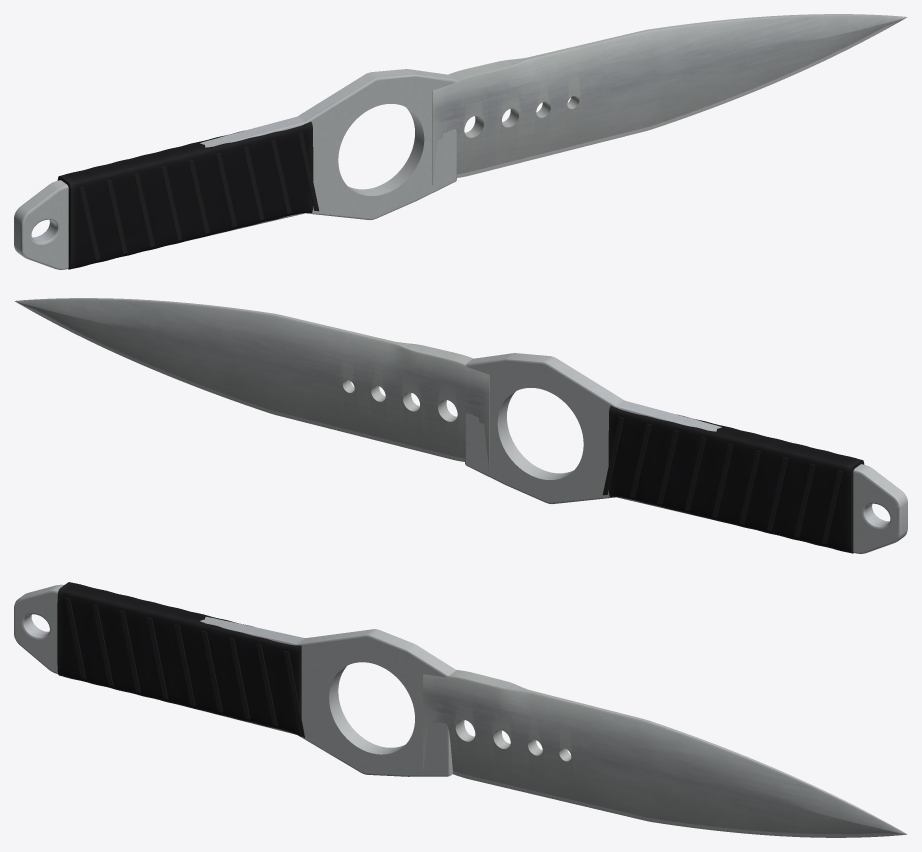
File: skeleton.glb
3 views of the same model, one above another, from view 1: azimuth 30°, elevation 25°; view 2: azimuth 150°, elevation 25°; view 3: azimuth 330°, elevation 25° (orthographic).
Parts seen in each view (by area): view 1: body; view 2: body; view 3: body.
Part boxes in pixels (x1,y1,x2,y2): body: [14, 14, 907, 269]; body: [14, 298, 907, 553]; body: [14, 582, 907, 837].
Bounding box in the file's own units: 0.228 × 0.0346 × 0.00657.
Materials: 4 (4 with a texture image).
